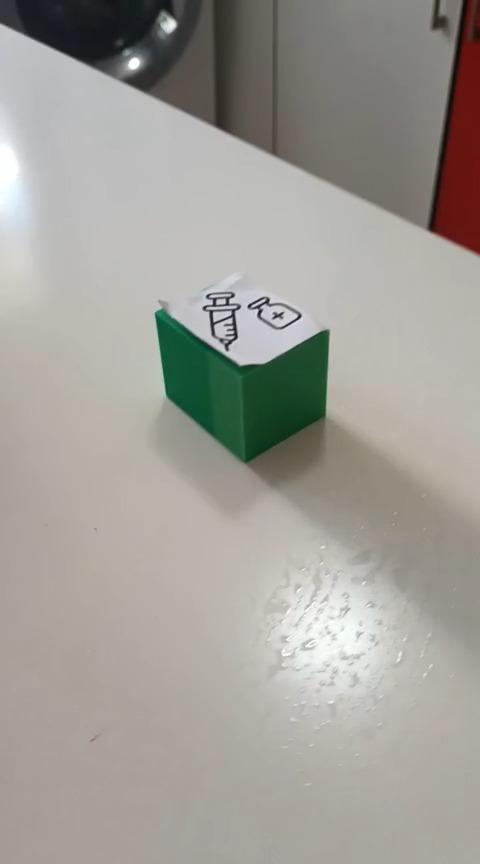antiseptic cream: (153, 270, 331, 463)
